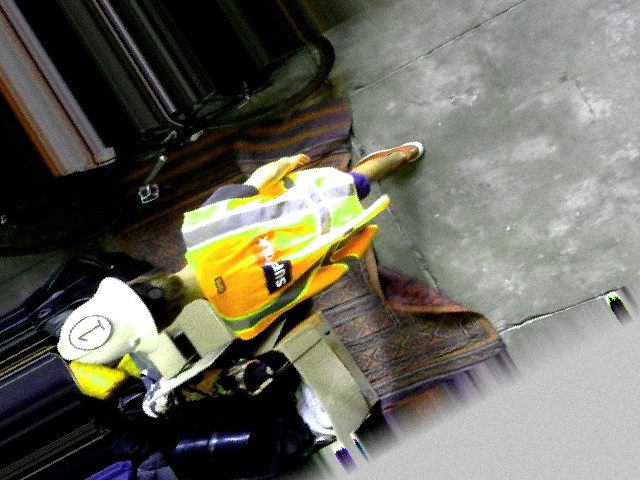one: (61, 308, 117, 356)
